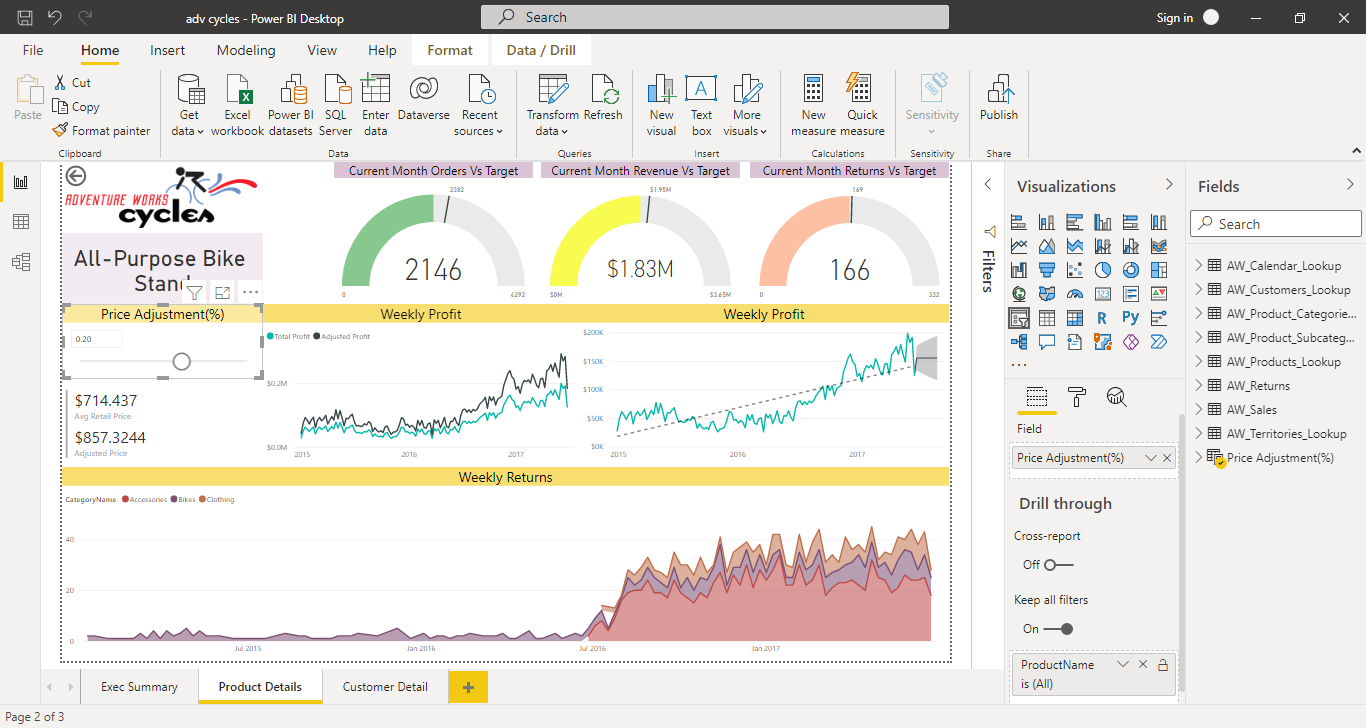

What the dashboard file says about the page in this screenshot:
{"tool":"powerbi","page":{"name":"Product Details","canvas":[1280,720],"ordinal":1},"visuals":[{"type":"lineChart","title":"Weekly Profit","fields":{"Category":["AW_Calendar_Lookup.Start of Week"],"Y":["AW_Sales.Total Profit"]},"box":[746,204.9,533.9,235.2],"z":0},{"type":"image","box":[0,0,290,102.4],"z":1000},{"type":"stackedAreaChart","title":"Weekly Returns","fields":{"Category":["AW_Calendar_Lookup.Start of Week"],"Y":["AW_Returns.Total Returns"],"Series":["AW_Product_Categories_Lookup.CategoryName"]},"box":[0,440.1,1279.8,279.9],"z":2000},{"type":"gauge","title":"Current Month Orders Vs Target","fields":{"Y":["AW_Sales.Total Orders"],"TargetValue":["AW_Sales.Order Target"]},"box":[392.5,0,287.1,204.9],"z":3000},{"type":"gauge","title":"Current Month Revenue Vs Target","fields":{"Y":["AW_Sales.Total Revenue"],"TargetValue":["AW_Sales.Revenue target"]},"box":[691.1,0,287.1,204.9],"z":4000},{"type":"gauge","title":"Current Month Returns Vs Target","fields":{"Y":["AW_Returns.Total Returns"],"TargetValue":["AW_Returns.Prev Month Returns"]},"box":[992.7,0,287.1,204.9],"z":5000},{"type":"card","fields":{"Values":["Min(AW_Products_Lookup.ProductName)"]},"box":[0,102.4,290,102.4],"z":6000},{"type":"actionButton","box":[0,0,100,40],"z":7000},{"type":"slicer","title":"Price Adjustment(%)","fields":{"Values":["Price Adjustment(%).Price Adjustment(%)"]},"box":[0,204.9,290,108.2],"z":8000},{"type":"multiRowCard","fields":{"Values":["AW_Products_Lookup.Avg Retail Price","AW_Products_Lookup.Adjusted Price"]},"box":[0,323.2,222.2,116.9],"z":9000},{"type":"lineChart","title":"Weekly Profit","fields":{"Category":["AW_Calendar_Lookup.Start of Week"],"Y":["AW_Sales.Total Profit","AW_Sales.Adjusted Profit"]},"box":[290,204.9,456,235.2],"z":10000}]}

Visuals, with their boxes on the page's 1280x720 design canvas (x1, y1, x2, y2). These are canvas units, not pixel positions in the 1366x728 screenshot, which may show the page scaled, cropped or inside an application window:
"Weekly Profit" lineChart: l=746, t=205, r=1280, b=440
image: l=0, t=0, r=290, b=102
"Weekly Returns" stackedAreaChart: l=0, t=440, r=1280, b=720
"Current Month Orders Vs Target" gauge: l=392, t=0, r=680, b=205
"Current Month Revenue Vs Target" gauge: l=691, t=0, r=978, b=205
"Current Month Returns Vs Target" gauge: l=993, t=0, r=1280, b=205
card - Min(AW_Products_Lookup.ProductName): l=0, t=102, r=290, b=205
actionButton: l=0, t=0, r=100, b=40
"Price Adjustment(%)" slicer: l=0, t=205, r=290, b=313
multiRowCard - AW_Products_Lookup.Avg Retail Price x AW_Products_Lookup.Adjusted Price: l=0, t=323, r=222, b=440
"Weekly Profit" lineChart: l=290, t=205, r=746, b=440
